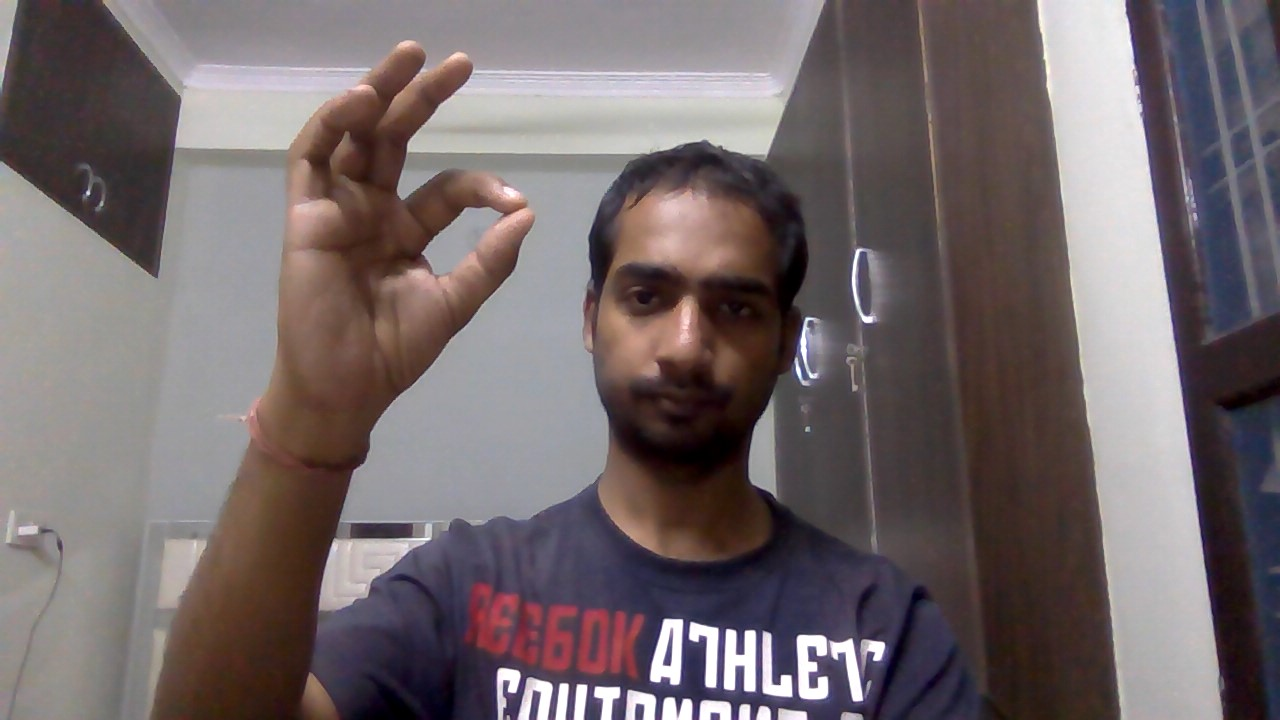Copy: (268, 33, 542, 423)
